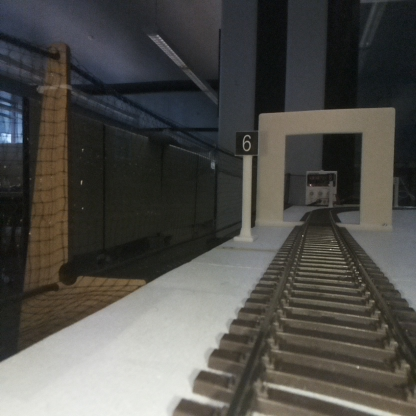black-info-6: (236, 131, 257, 241)
